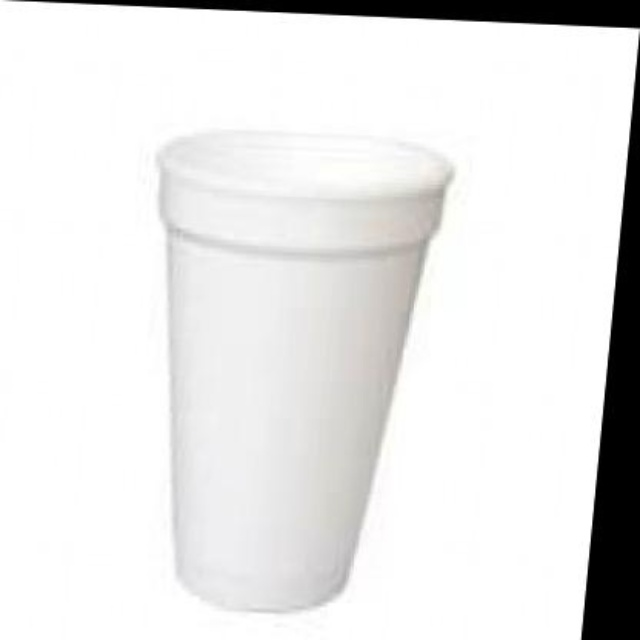trash: (158, 132, 451, 609)
